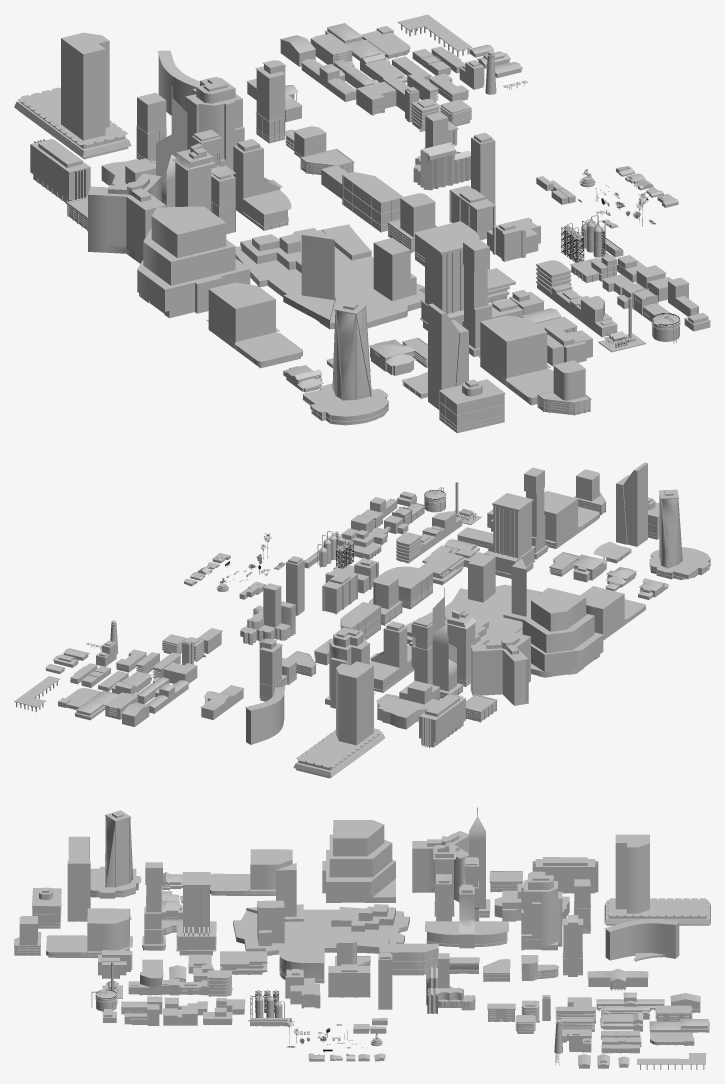
Rendered from Prefab.fbx.
3 views of the same model, one above another, from view 1: azimuth 30°, elevation 25°; view 2: azimuth 150°, elevation 25°; view 3: azimuth 270°, elevation 25° (orthographic). The views are drawn at different scales.
Parts seen in each view (by area): view 1: L2 C, L2 L, L2 F, L1 K, L1 L001, L1 L, L2 H, L2 K, L2 A, L2 J, L2 E, Opera house (+43 smaller); view 2: L2 L, L2 F, L2 C, L2 H, L2 J, L1 K, L2 E, Opera house, L1 L, L2 A, L2 B, L1 L001 (+35 smaller); view 3: L2 C, L2 L, L2 F, L2 K, L1 K, L1 L, L1 P, L2 J, L2 A, L1 L001, L2 H, Chaine F004 (+44 smaller).
Boxes of the visible parts, x1,y1,x2,y2 form: L2 C: (235,224,424,329); L2 L: (137,206,250,318); L2 F: (14,32,131,159); L1 K: (302,300,388,425); L1 L001: (206,282,302,368); L1 L: (478,315,553,405); L2 H: (88,173,166,263); L2 K: (185,77,244,169); L2 A: (232,139,291,230); L2 J: (420,231,469,330); L2 E: (428,303,468,409); Opera house: (413,112,470,190); L2 L: (517,587,603,677); L2 F: (293,661,385,778); L2 C: (404,553,541,646); L2 H: (470,632,530,705); L2 J: (484,493,535,578); L1 K: (649,489,710,580); L2 E: (616,462,647,546); Opera house: (240,583,295,644); L1 L: (544,491,599,548); L2 A: (370,621,414,692); L2 B: (376,680,440,729); L1 L001: (580,586,645,640); L2 C: (233,863,409,955); L2 L: (322,820,395,902); L2 F: (604,834,710,925); L2 K: (521,871,562,950); L1 K: (90,810,141,898); L1 L: (46,908,132,958); L1 P: (604,919,679,961); L2 J: (176,872,216,955); L2 A: (425,884,508,948); L1 L001: (210,849,292,895); L2 H: (412,831,468,901); Chaine F004: (128,970,232,996).
Size of the model in its own units: 333 by 87.94 by 499.
